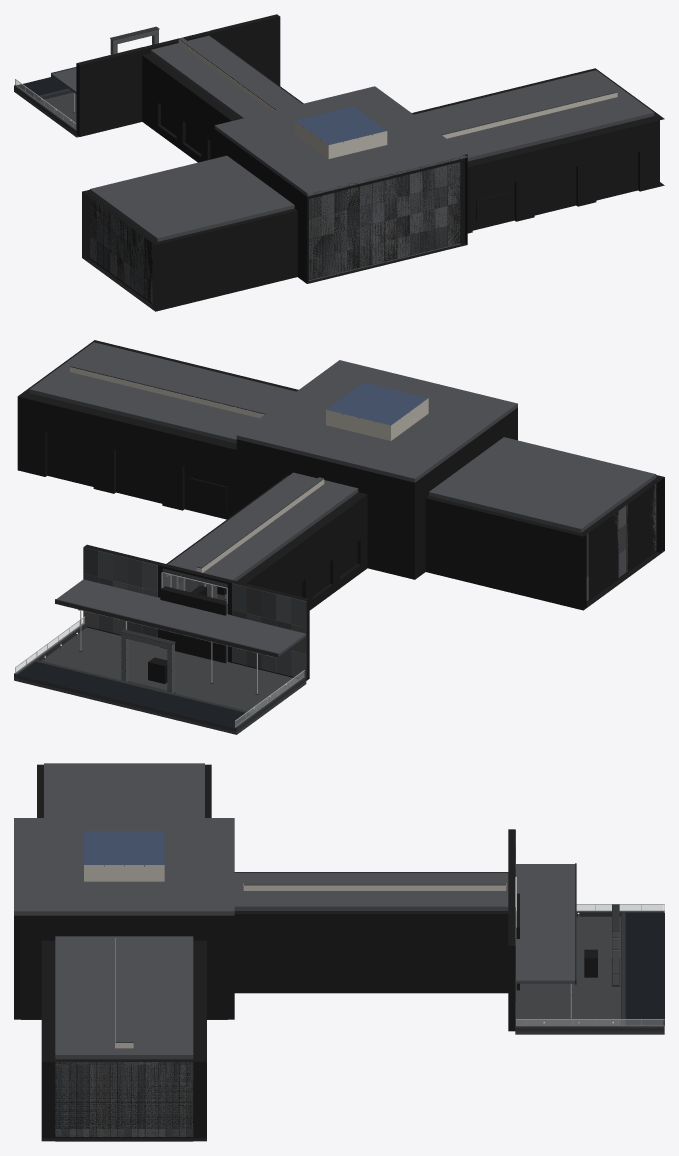
Rendered from world.glb.
3 renders of one model, top to bottom at view 1: azimuth 30°, elevation 25°; view 2: azimuth 150°, elevation 25°; view 3: azimuth 270°, elevation 25°, orthographic. The views are drawn at different scales.
Visible parts, largest first — view 1: atrium_lm, lab_lm, gallery_lm, corridor_lm, terrace_lm, atrium_fx, terrace_fx, hit_project_1; view 2: lab_lm, gallery_lm, atrium_lm, terrace_lm, corridor_lm, terrace_fx, atrium_fx, hit_dest_terrace, terrace_metal, hit_project_0; view 3: gallery_lm, corridor_lm, atrium_lm, terrace_lm, lab_lm, terrace_fx, atrium_fx, terrace_metal.
Boxes of the visible parts, x1,y1,x2,y2 form: atrium_lm: (214, 86, 467, 283); lab_lm: (82, 155, 297, 311); gallery_lm: (412, 68, 664, 233); corridor_lm: (142, 35, 303, 162); terrace_lm: (14, 14, 280, 137); atrium_fx: (295, 106, 386, 144); terrace_fx: (16, 77, 75, 128); hit_project_1: (476, 192, 510, 221); lab_lm: (425, 437, 664, 610); gallery_lm: (17, 340, 298, 519); atrium_lm: (236, 360, 517, 579); terrace_lm: (14, 544, 309, 734); corridor_lm: (158, 472, 367, 663); terrace_fx: (16, 617, 304, 727); atrium_fx: (326, 382, 427, 425); hit_dest_terrace: (160, 586, 227, 663); terrace_metal: (15, 603, 304, 727); hit_project_0: (189, 477, 227, 510); gallery_lm: (41, 936, 206, 1141); corridor_lm: (234, 872, 508, 993); atrium_lm: (14, 818, 234, 1019); terrace_lm: (508, 829, 664, 1034); lab_lm: (37, 763, 211, 817); terrace_fx: (516, 905, 664, 1025); atrium_fx: (84, 831, 164, 864); terrace_metal: (516, 904, 664, 1026).
Bounding box in the file's own units: 61.2 × 12.3 × 56.62.
